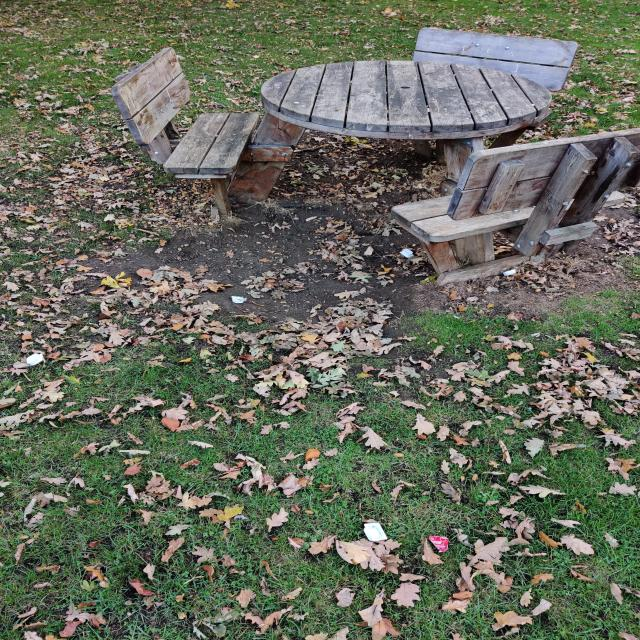litter: (362, 518, 394, 547)
